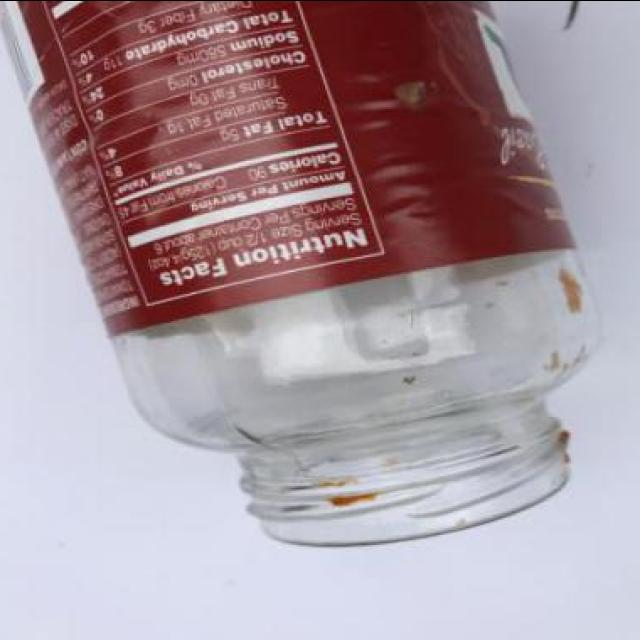kaca: (0, 0, 601, 548)
